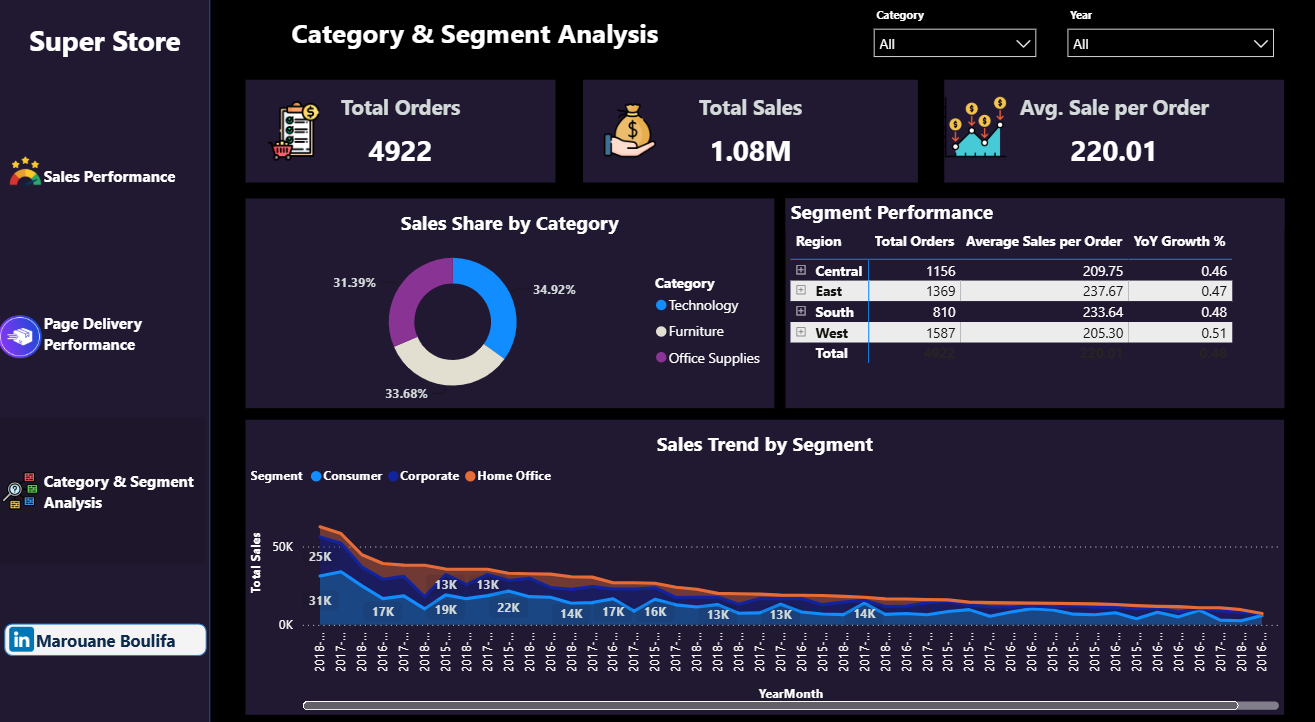

Layout of this report page (visuals, bound fields, positions):
{"tool":"powerbi","page":{"name":"Category & Segment Analysis","canvas":[1280,720],"ordinal":2},"visuals":[{"type":"card","title":"Total Sales","fields":{"Values":["Date_Table.Total Sales"]},"box":[568.8,85.7,323.3,98.9],"z":0},{"type":"card","title":"Total Orders","fields":{"Values":["Date_Table.Total Orders"]},"box":[243.7,85.7,299.2,98.9],"z":1000},{"type":"card","title":"Avg. Sale per Order","fields":{"Values":["Date_Table.Average Sales per Order"]},"box":[918.1,85.7,328.2,98.9],"z":2000},{"type":"donutChart","title":"Sales Share by Category","fields":{"Category":["train_clean.Category"],"Y":["Date_Table.Total Sales"]},"box":[243.7,200.3,510.3,202.7],"z":3000},{"type":"pivotTable","title":"Segment Performance","fields":{"Rows":["train_clean.Region","train_clean.Segment"],"Values":["Date_Table.Total Orders","Date_Table.Average Sales per Order","Date_Table.YoY Growth %"]},"box":[764.9,200.3,481.4,202.7],"z":4000},{"type":"stackedAreaChart","title":"Sales Trend by Segment","fields":{"Category":["Date_Table.YearMonth"],"Y":["Date_Table.Total Sales"],"Series":["train_clean.Segment"]},"box":[243.7,413.8,1002.6,284.7],"z":5000},{"type":"shape","box":[0,0,209.9,720.2],"z":6000},{"type":"shape","box":[231.6,4.8,466.9,71.2],"z":7000},{"type":"slicer","fields":{"Values":["train_clean.Category"]},"box":[839.7,10.9,177.3,60.3],"z":8000},{"type":"slicer","fields":{"Values":["Date_Table.Year"]},"box":[1026.7,10.9,219.6,61.5],"z":9000},{"type":"shape","box":[0,16.9,216,59.1],"z":10000},{"type":"pageNavigator","box":[0,107.4,205.1,448.8],"z":11000},{"type":"image","box":[10.9,152,41,44.6],"z":12000},{"type":"image","box":[581.5,103.8,66.4,61.5],"z":13000},{"type":"image","box":[0,306.4,51.9,54.3],"z":14000},{"type":"image","box":[254.6,101.3,71.2,67.6],"z":15000},{"type":"image","box":[908.4,85.7,77.2,90.5],"z":16000},{"type":"image","box":[0,459.7,51.9,45.8],"z":17000},{"type":"shape","box":[10.9,610.5,195.4,31.4],"z":17001},{"type":"image","box":[10.9,608,33.8,35],"z":17002}]}

Visuals, with their boxes on the page's 1280x720 design canvas (x1, y1, x2, y2). These are canvas units, not pixel positions in the 1315x722 screenshot, which may show the page scaled, cropped or inside an application window:
"Total Sales" card: crop(569, 86, 892, 185)
"Total Orders" card: crop(244, 86, 543, 185)
"Avg. Sale per Order" card: crop(918, 86, 1246, 185)
"Sales Share by Category" donutChart: crop(244, 200, 754, 403)
"Segment Performance" pivotTable: crop(765, 200, 1246, 403)
"Sales Trend by Segment" stackedAreaChart: crop(244, 414, 1246, 698)
shape: crop(0, 0, 210, 720)
shape: crop(232, 5, 698, 76)
slicer - train_clean.Category: crop(840, 11, 1017, 71)
slicer - Date_Table.Year: crop(1027, 11, 1246, 72)
shape: crop(0, 17, 216, 76)
pageNavigator: crop(0, 107, 205, 556)
image: crop(11, 152, 52, 197)
image: crop(582, 104, 648, 165)
image: crop(0, 306, 52, 361)
image: crop(255, 101, 326, 169)
image: crop(908, 86, 986, 176)
image: crop(0, 460, 52, 506)
shape: crop(11, 610, 206, 642)
image: crop(11, 608, 45, 643)
